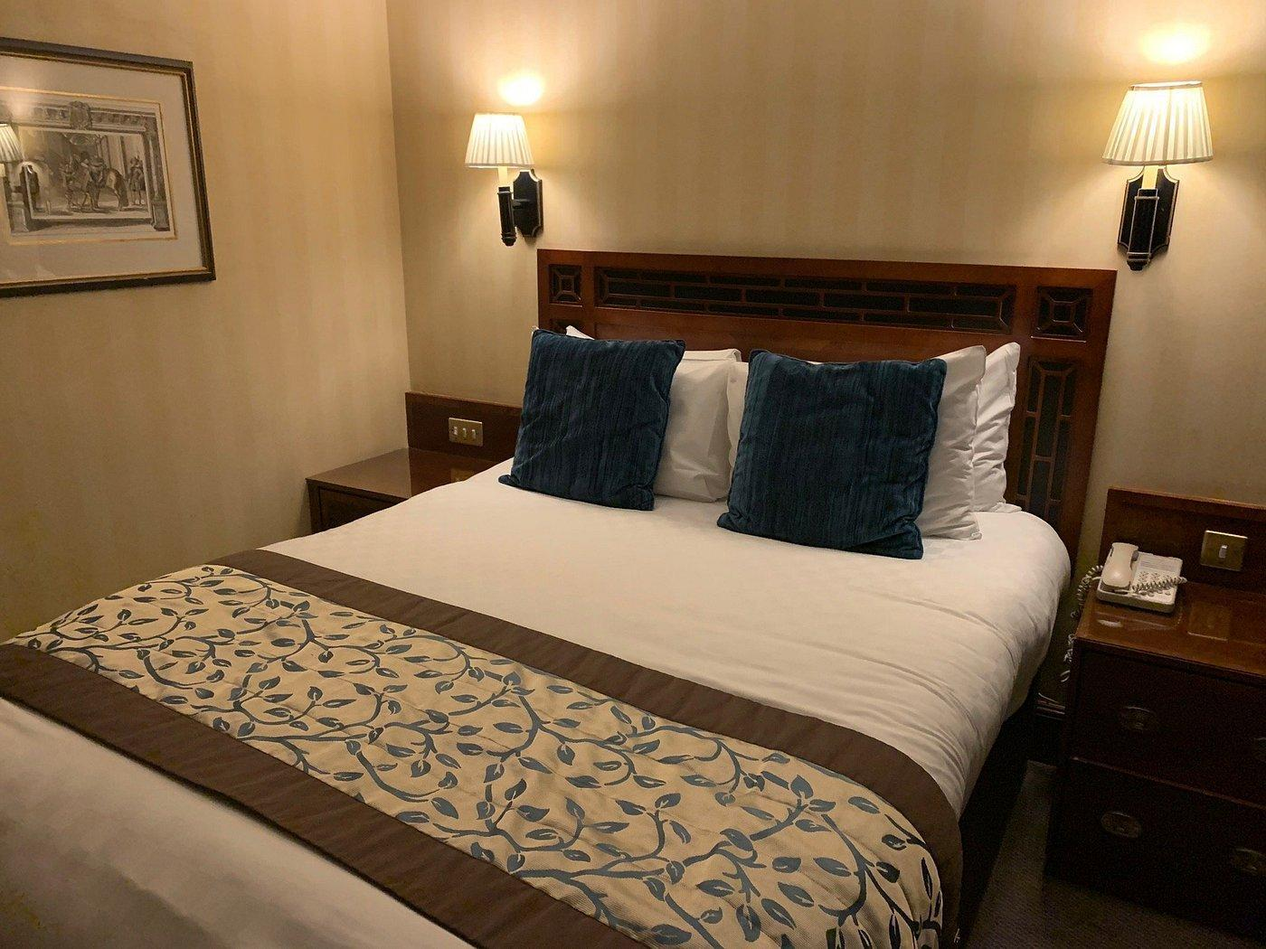clean_bed: (5, 252, 1111, 948)
lamp: (1103, 81, 1215, 274), (454, 116, 547, 259)
organised_pillow: (512, 319, 1022, 547)
